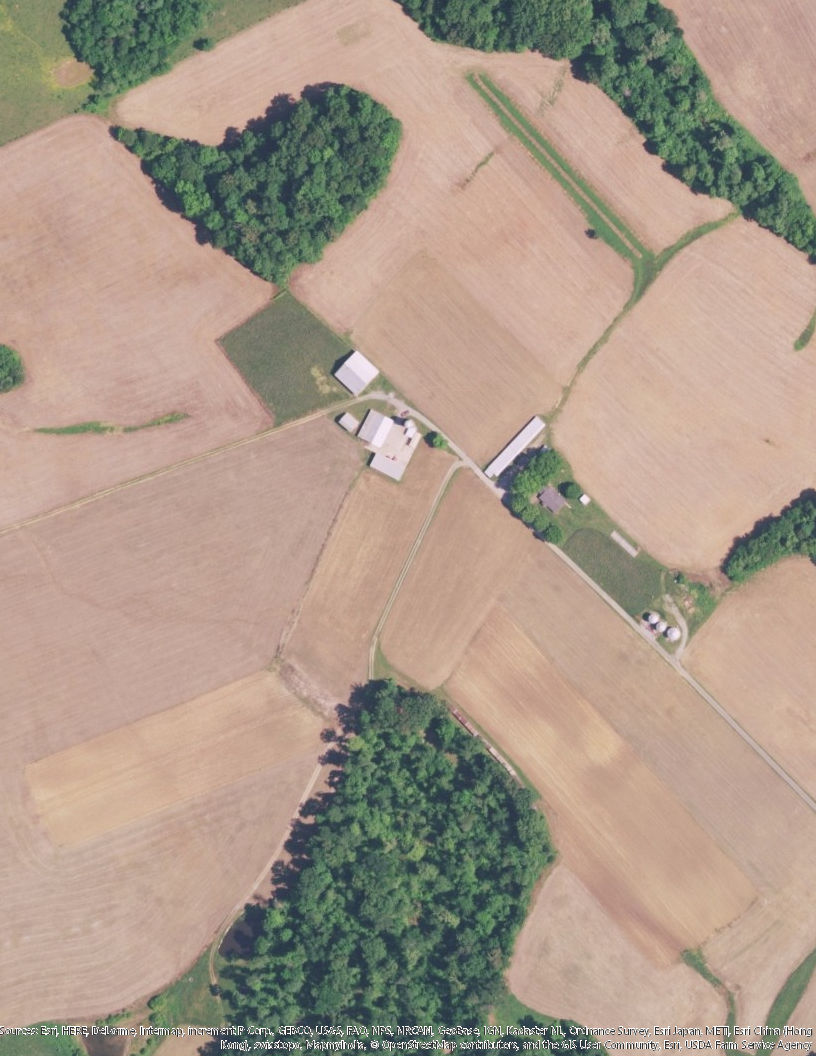cafo: (358, 407, 425, 484), (332, 348, 386, 397)
